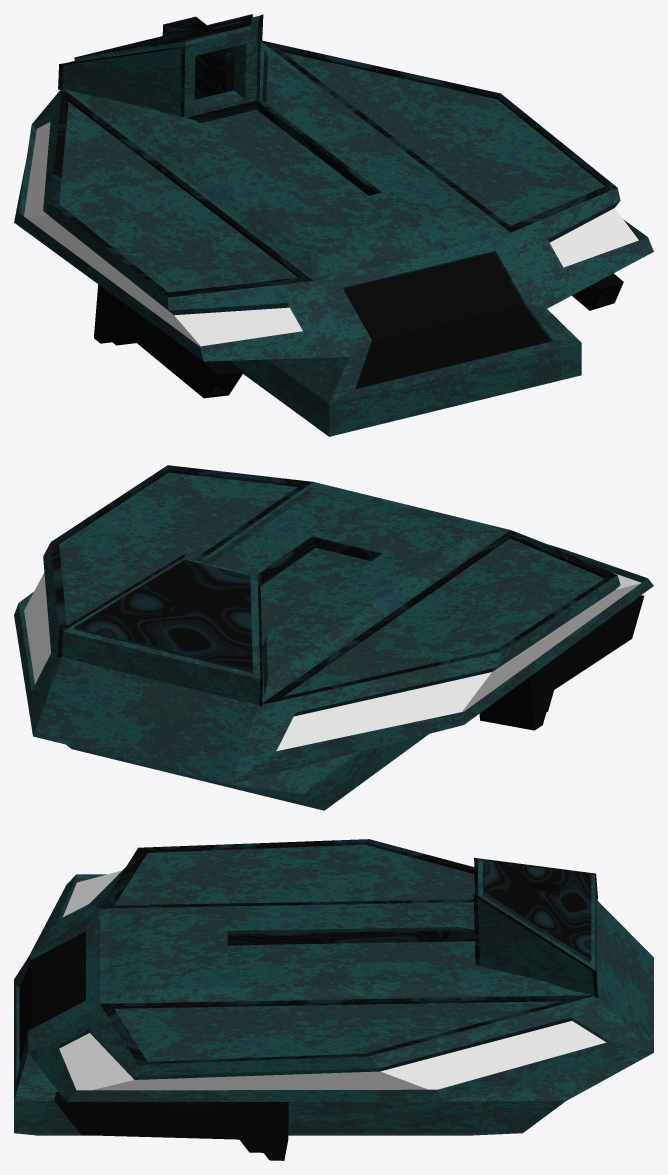
Rendered from Tank.fbx.
The picture shows the model from 3 angles, top to bottom: view 1: azimuth 30°, elevation 25°; view 2: azimuth 150°, elevation 25°; view 3: azimuth 270°, elevation 25°; orthographic projection.
Visible parts, largest first — view 1: Tank, Window, Outline, Sides, Beam Cannons; view 2: Tank, Outline, Sides, Beam Cannons; view 3: Tank, Outline, Sides, Beam Cannons, Window, HoverShell.
Boxes of the visible parts, box(x1,y1,x2,y2) form: Tank: box(14, 15, 653, 436); Window: box(343, 252, 550, 389); Outline: box(51, 14, 617, 297); Sides: box(24, 122, 638, 346); Beam Cannons: box(94, 273, 623, 398); Tank: box(14, 472, 653, 810); Outline: box(51, 465, 616, 707); Sides: box(24, 573, 641, 751); Beam Cannons: box(479, 595, 644, 730); Tank: box(14, 844, 653, 1133); Outline: box(100, 839, 598, 1064); Sides: box(59, 870, 606, 1090); Beam Cannons: box(54, 1092, 288, 1160); Window: box(19, 931, 85, 1065); HoverShell: box(16, 1133, 516, 1135).
Bounding box in the file's own units: 1080 × 470 × 1332.
